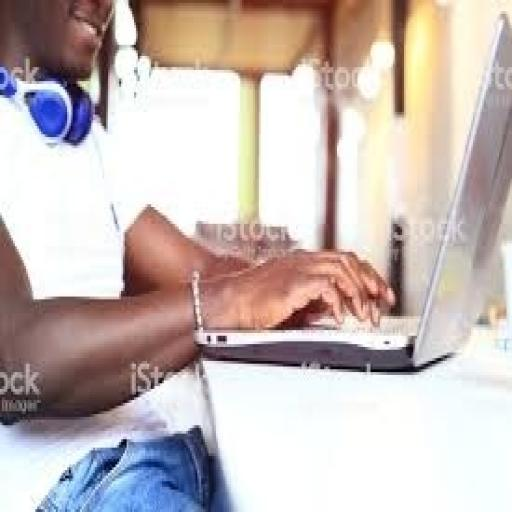using_laptop: (192, 9, 510, 372)
